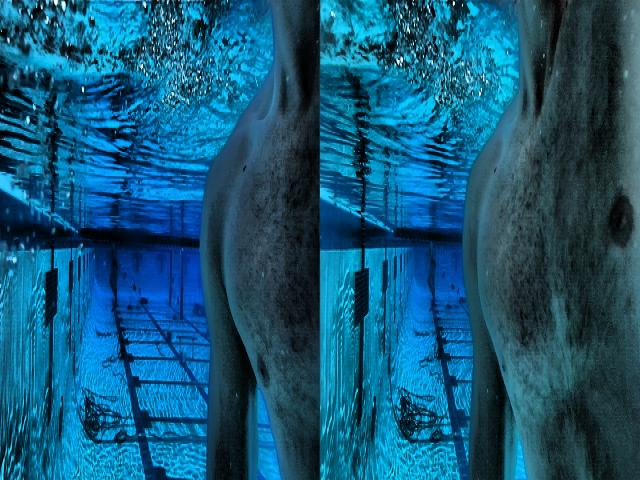path_marker: (175, 335, 198, 363)
